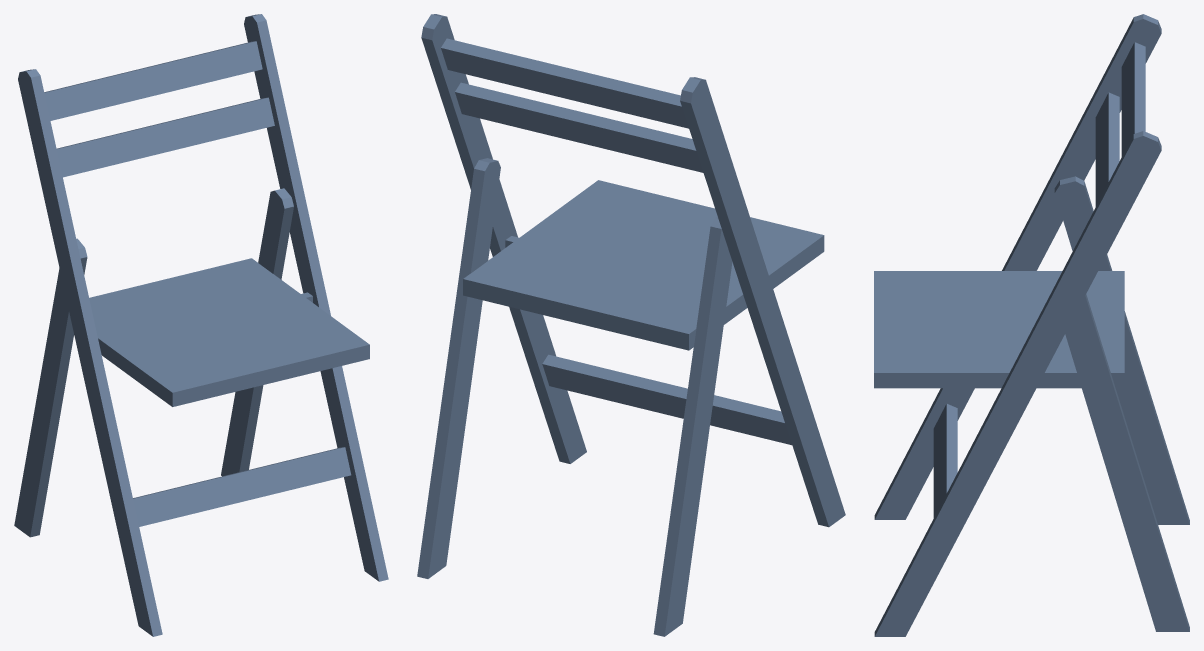
The model's file is Chair_06.fbx.
The picture shows the model from 3 angles, left to right: view 1: azimuth 30°, elevation 25°; view 2: azimuth 150°, elevation 25°; view 3: azimuth 270°, elevation 25°; orthographic projection. The views are drawn at different scales.
Parts seen in each view (by area): view 1: Chair_06; view 2: Chair_06; view 3: Chair_06.
Boxes of the visible parts, x1,y1,x2,y2 form: Chair_06: (14, 14, 388, 636); Chair_06: (417, 14, 845, 636); Chair_06: (874, 14, 1189, 636).
Size of the model in its own units: 51.99 by 99.71 by 56.93.
